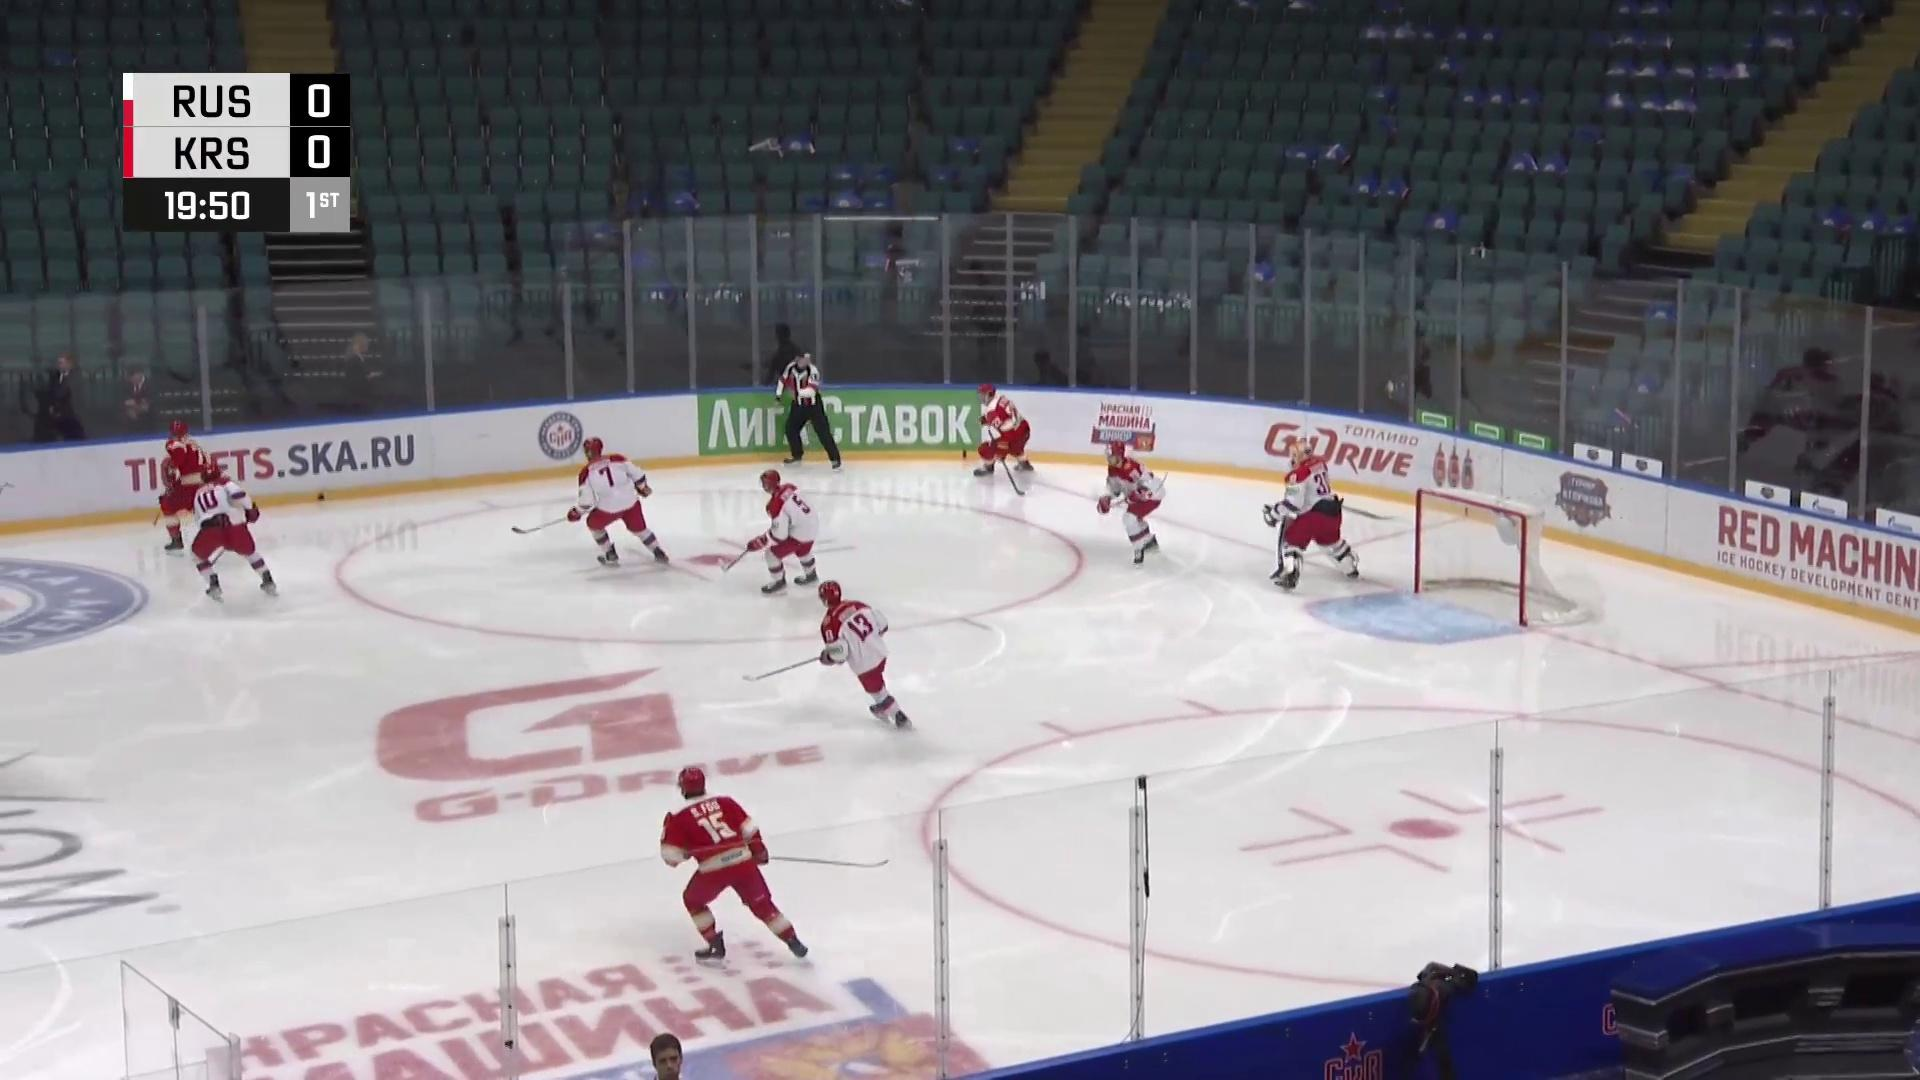ball: (316, 492, 326, 501)
